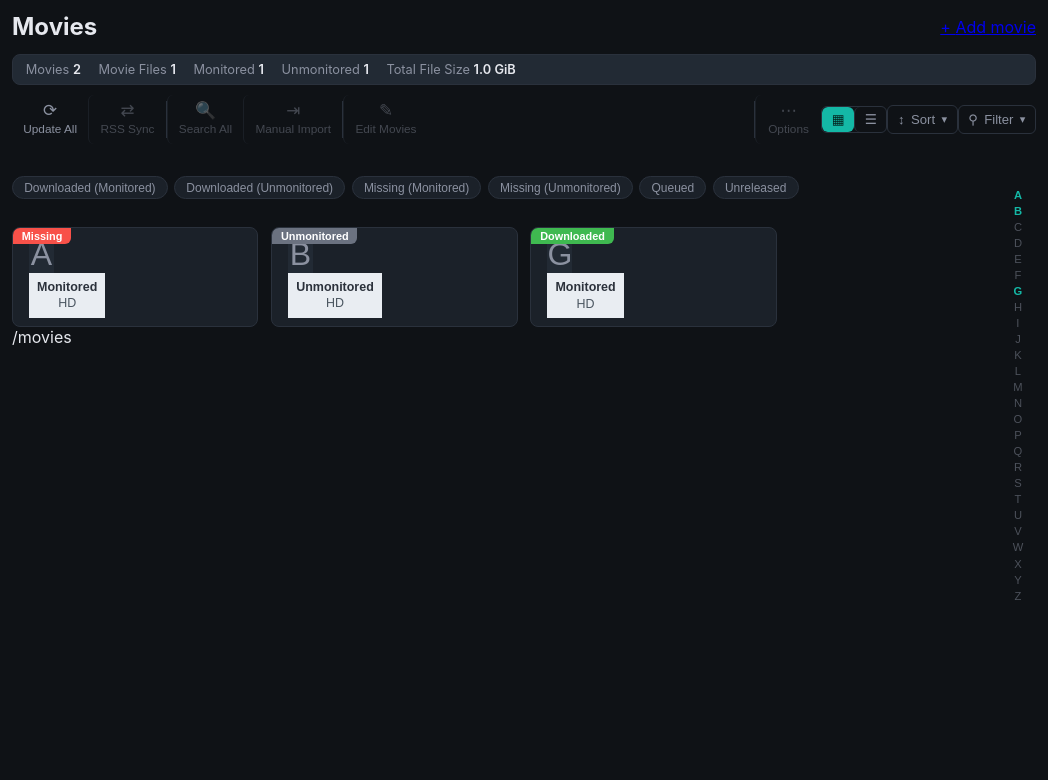
MoviesPage › filters the grid client-side with the status chips
expect the element with test id "movies-grid" is shown: met, box [12,227,777,327]
Step 1. Click the button with test id "movies-chip-missing-monitored" → (417, 188), box [352,176,482,199]
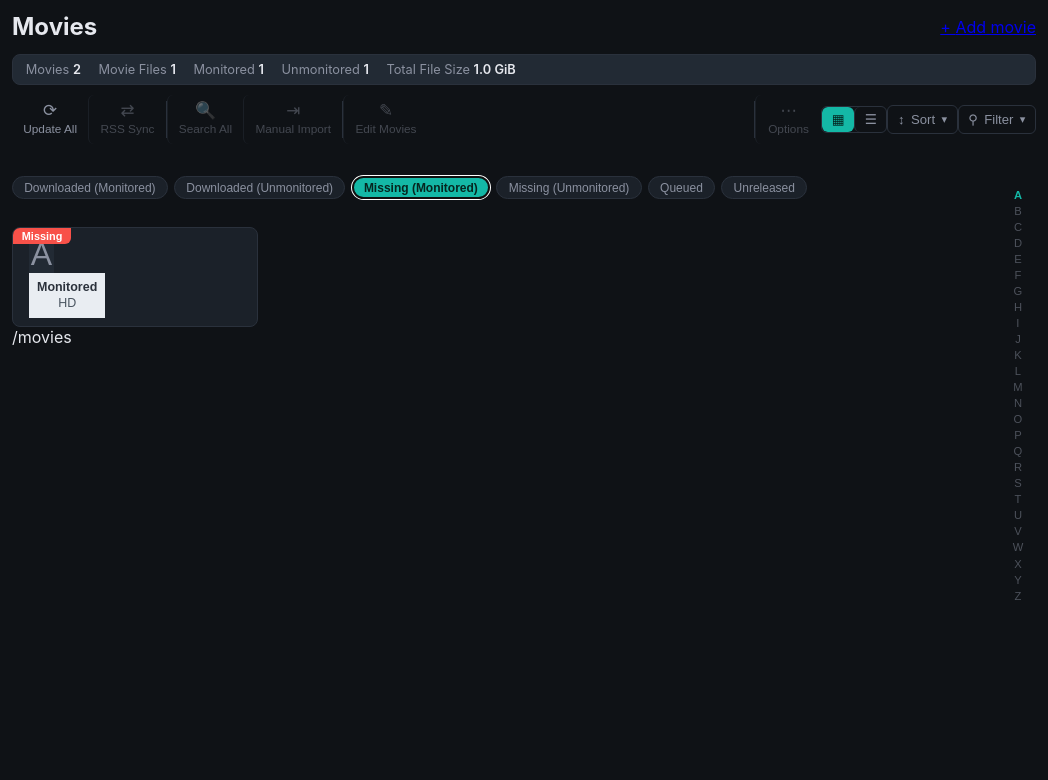
expect the element with test id "movie-card-1" is shown: met, box [12,211,258,327]
expect the element with test id "movie-card-2" is gone: met
expect the element with test id "movie-card-3" is gone: met
# Clicking the chip again clears the filter.
Step 2. Click the button with test id "movies-chip-missing-monitored" → (421, 188), box [352,176,490,199]
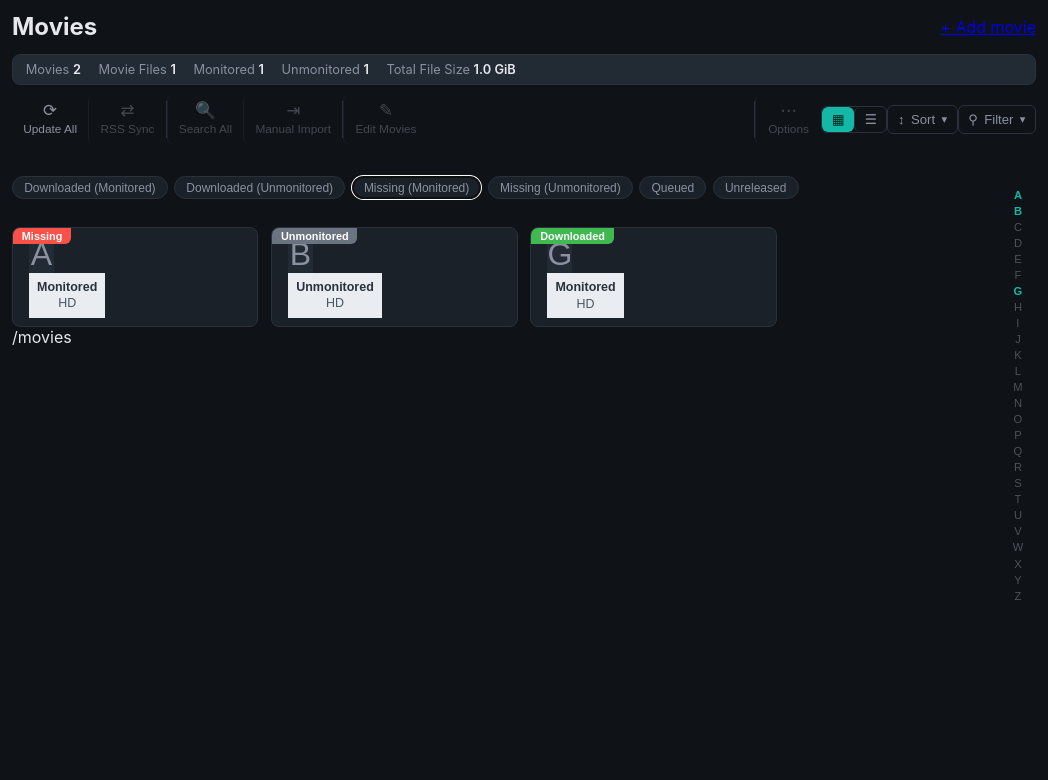
expect the element with test id "movie-card-2" is shown: met, box [271,211,518,327]
